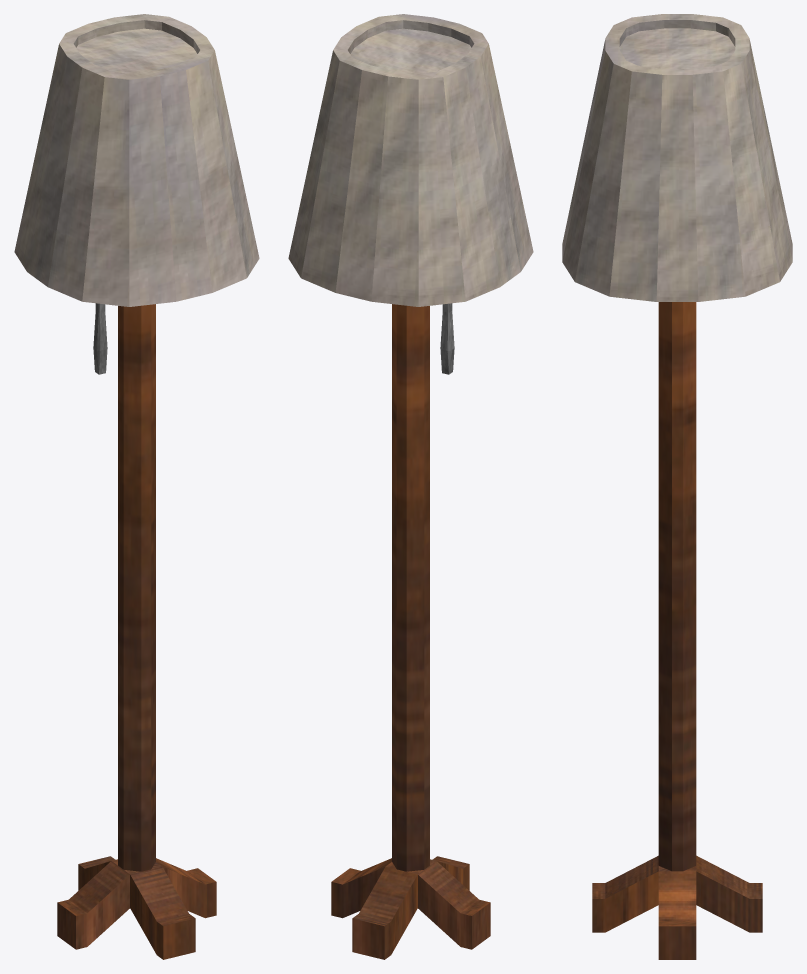
Rendered from lamp_floor.fbx.
The picture shows the model from 3 angles, left to right: view 1: azimuth 30°, elevation 25°; view 2: azimuth 150°, elevation 25°; view 3: azimuth 270°, elevation 25°; orthographic projection.
Visible parts, largest first — view 1: lamp; view 2: lamp; view 3: lamp.
Part boxes in pixels (x1,y1,x2,y2): lamp: (14,14,259,959); lamp: (288,14,533,959); lamp: (562,14,792,959).
Bounding box in the file's own units: 176 × 742 × 176.
